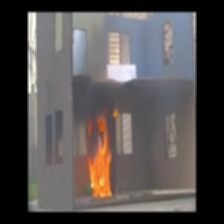fire: (78, 117, 120, 200)
